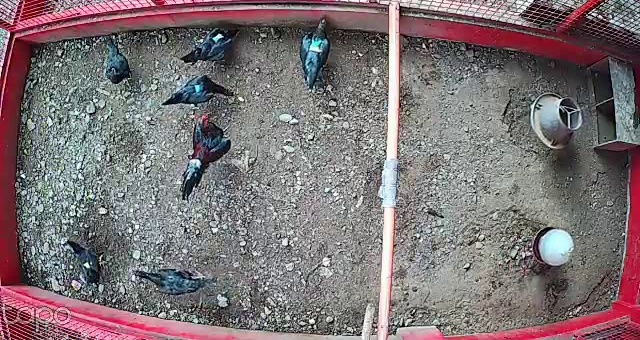Chicken: (160, 69, 236, 113), (129, 258, 207, 300), (180, 24, 243, 74), (297, 14, 335, 92), (65, 237, 114, 293), (105, 34, 136, 88)
Rooster: (179, 110, 234, 199)
Saddle_Color_Blue: (195, 81, 201, 93)
Saddle_Color_White: (216, 34, 223, 38)
Saddle_Color_YellowGreen: (305, 39, 324, 52)
